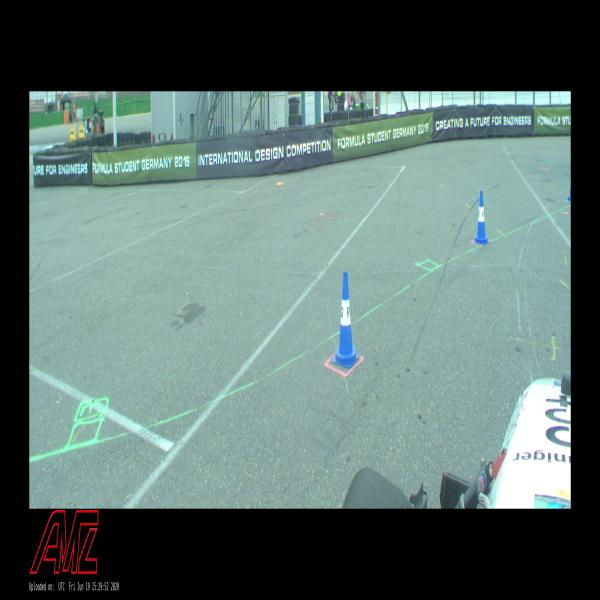blue_cone: (332, 272, 359, 368), (473, 191, 490, 245), (567, 175, 571, 200)
